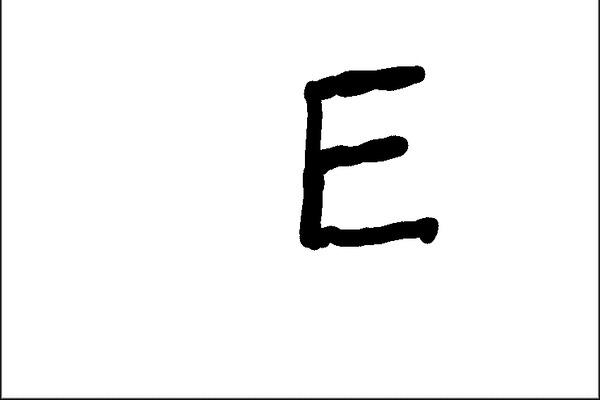E: (294, 62, 441, 253)
